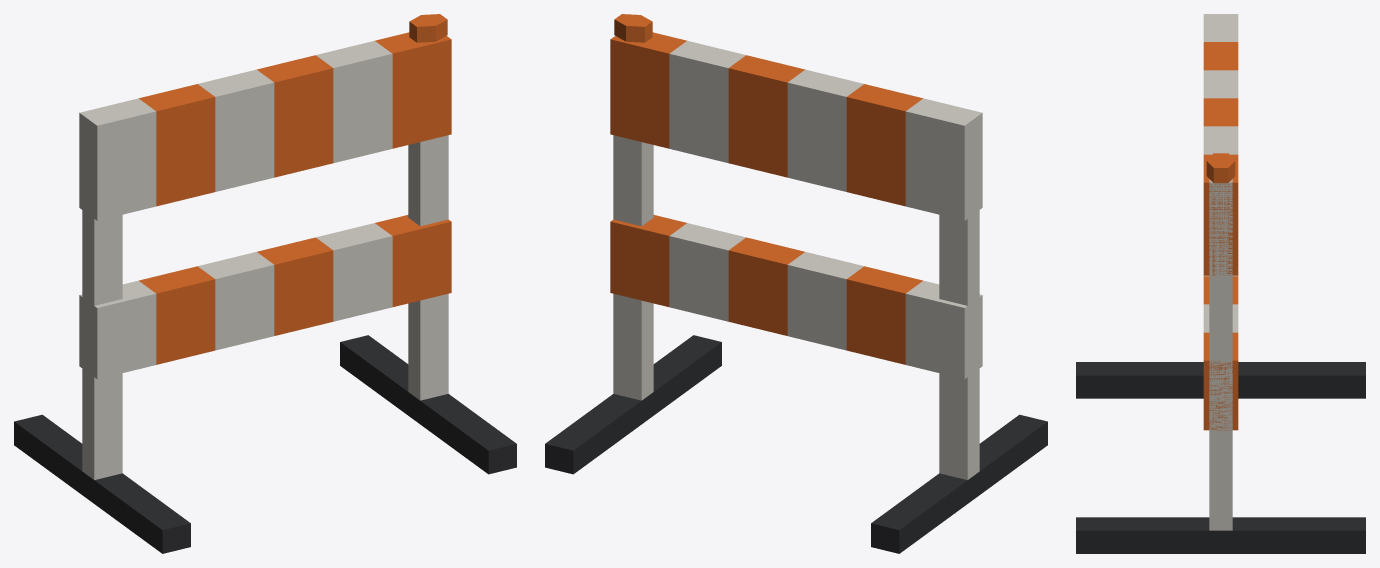
The model's file is SM_Prop_RoadBarrier_Small.glb.
3 renders of one model, left to right at view 1: azimuth 30°, elevation 25°; view 2: azimuth 150°, elevation 25°; view 3: azimuth 270°, elevation 25°, orthographic. The views are drawn at different scales.
Parts seen in each view (by area): view 1: SM_Prop_RoadBarrier_Small; view 2: SM_Prop_RoadBarrier_Small; view 3: SM_Prop_RoadBarrier_Small.
Part boxes in pixels (<box>): SM_Prop_RoadBarrier_Small: <box>14,14,516,553</box>; SM_Prop_RoadBarrier_Small: <box>545,14,1047,553</box>; SM_Prop_RoadBarrier_Small: <box>1076,14,1365,553</box>.
Size of the model in its own units: 0.998 by 1.06 by 0.722.
Materials: 1 (1 with a texture image).
